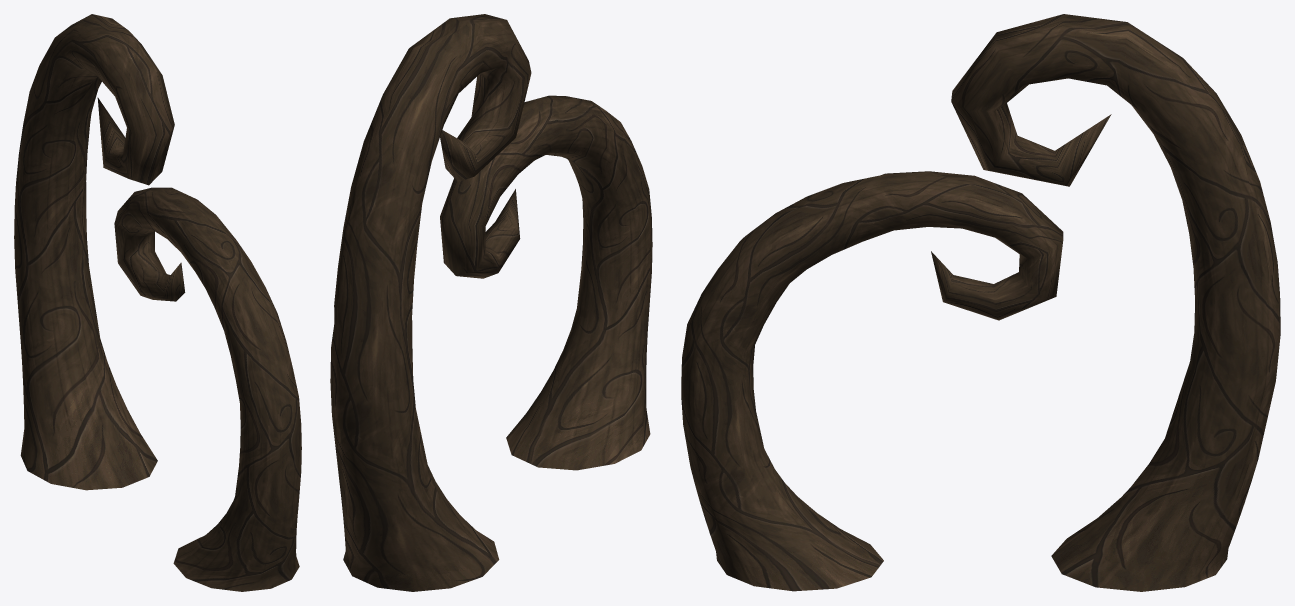
File: rootGate_green.fbx
The picture shows the model from 3 angles, left to right: view 1: azimuth 30°, elevation 25°; view 2: azimuth 150°, elevation 25°; view 3: azimuth 270°, elevation 25°; orthographic projection. The views are drawn at different scales.
Visible parts, largest first — view 1: rootGate_green; view 2: rootGate_green; view 3: rootGate_green.
Part boxes in pixels (x1,y1,x2,y2): rootGate_green: (14,14,301,591); rootGate_green: (330,14,652,591); rootGate_green: (681,14,1280,591).
Bounding box in the file's own units: 161 × 596 × 604.
